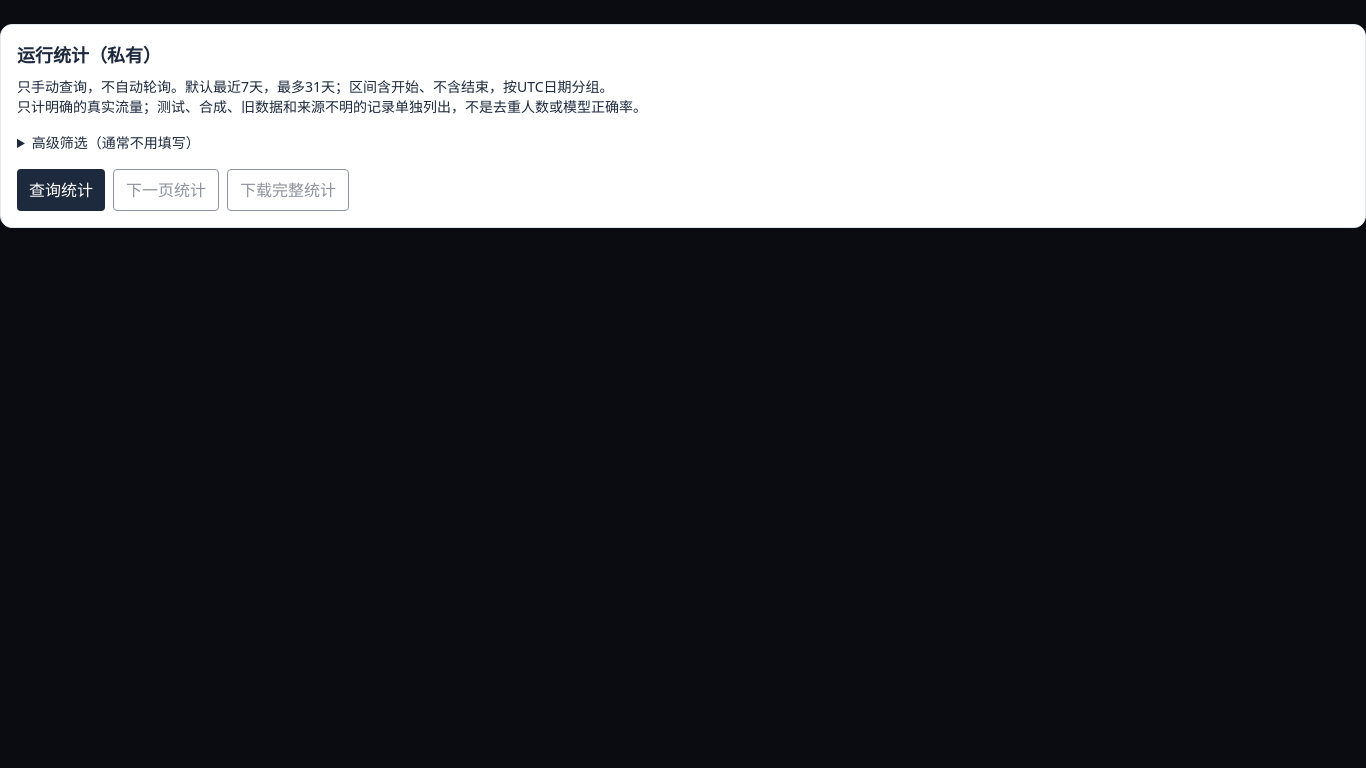
Test: metrics only query manually, show unknown coverage and full denominator, never poll
The image size is (1366, 768).
Click the button "查询统计" at (61, 190), box [17,169,105,211]
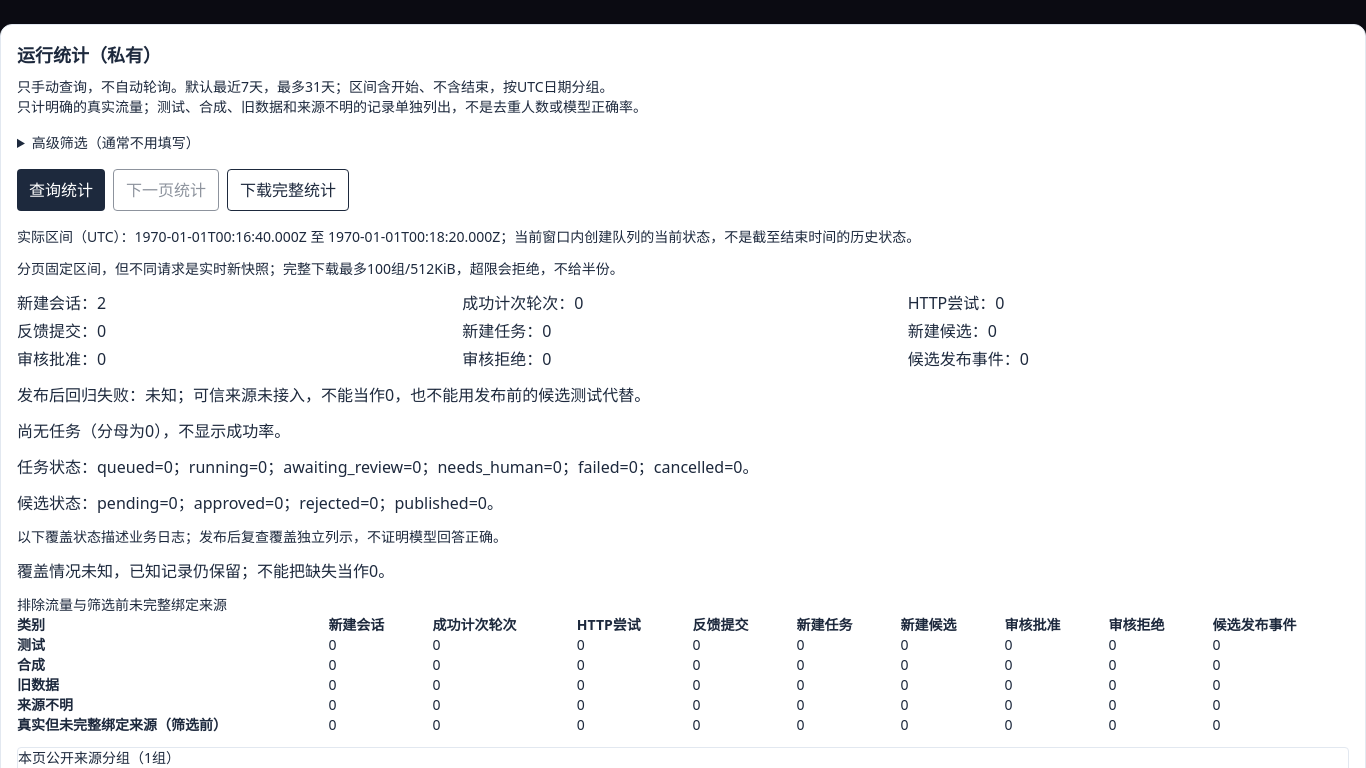
Now the text "新建会话：2" is shown, box [17,292,106,314]
Now the text "尚无任务（分母为0），不显示成功率。" is shown, box [17,420,290,442]
Now the text "覆盖情况未知，已知记录仍保留；不能把缺失当作0。" is shown, box [17,560,394,582]
